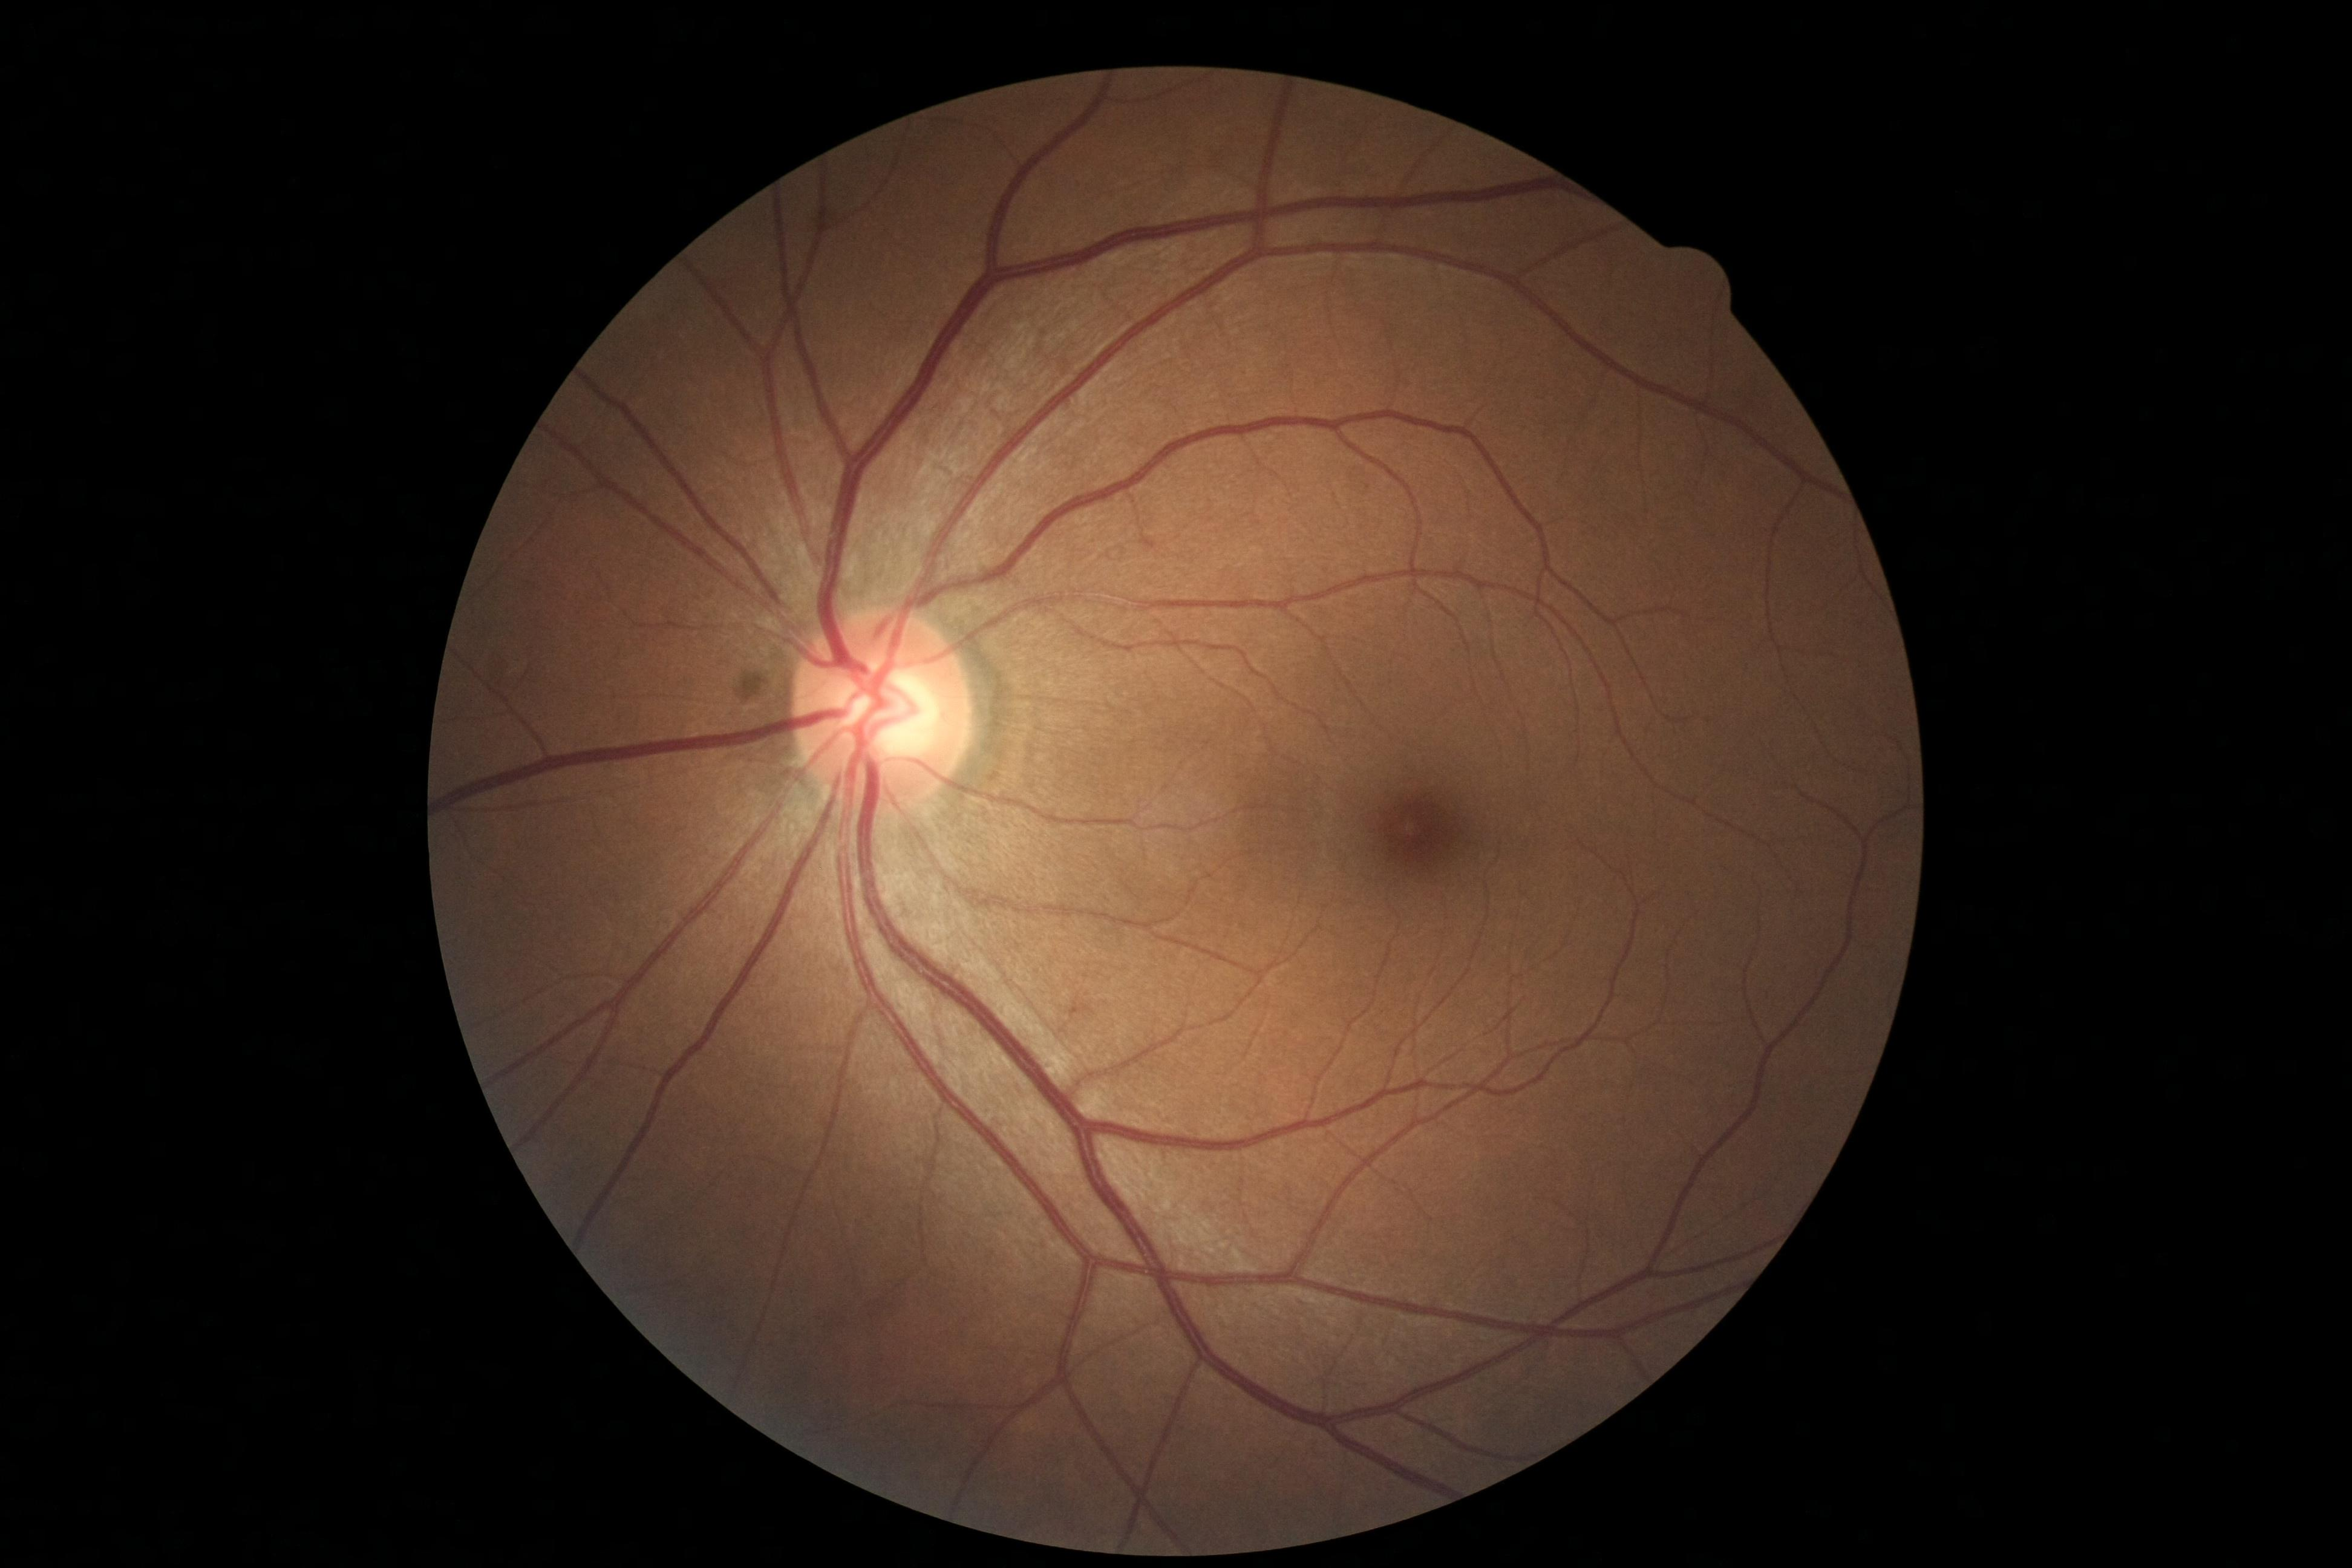Optic-nerve: (772, 593, 980, 835)
macula: (1326, 709, 1564, 959)
notch: (1647, 233, 1739, 324)
